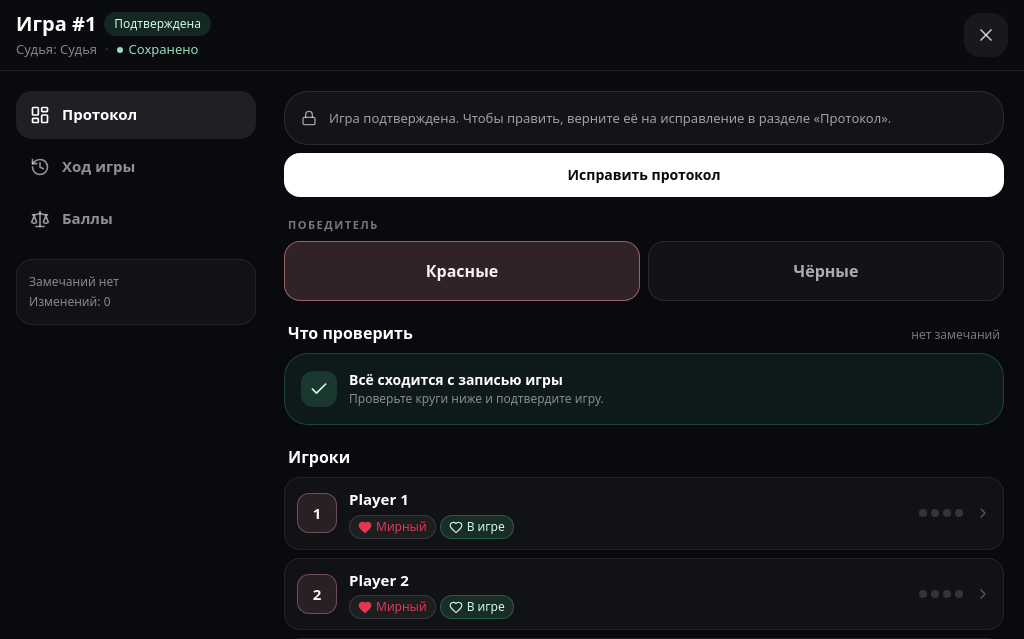
tournament protocol in the common protocol window › does not let a completed game classify its old technical fouls
This screenshot has width=1024, height=639.
Expected: the heading "Игра #1" is shown, [16,10,96,38]
Step 1. Click the button "Баллы" → (136, 218), box [16,194,256,242]
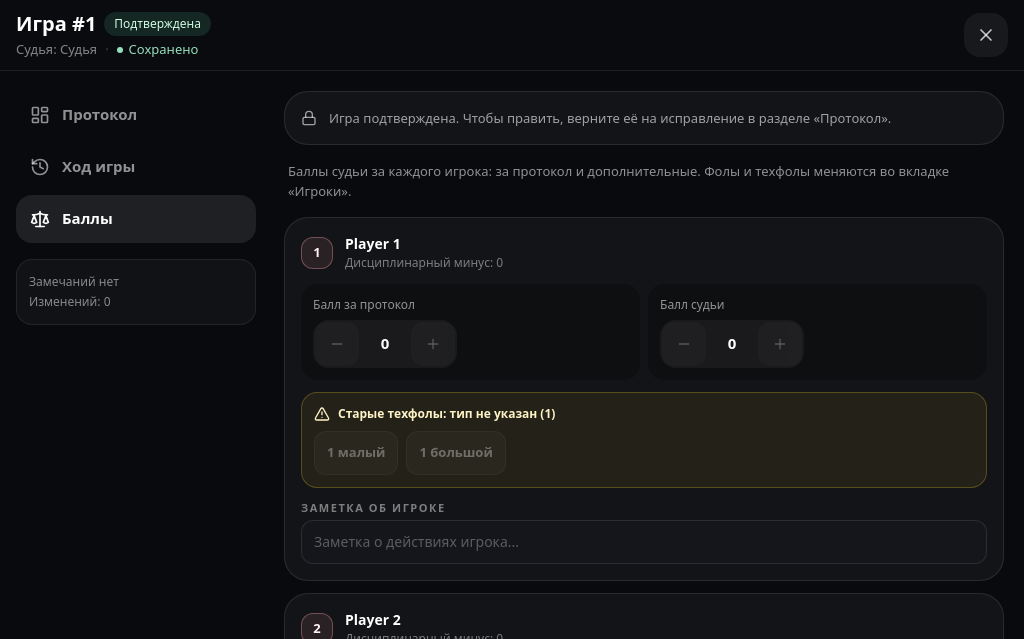
Now the button "1 малый" is disabled, box [314,430,398,474]
